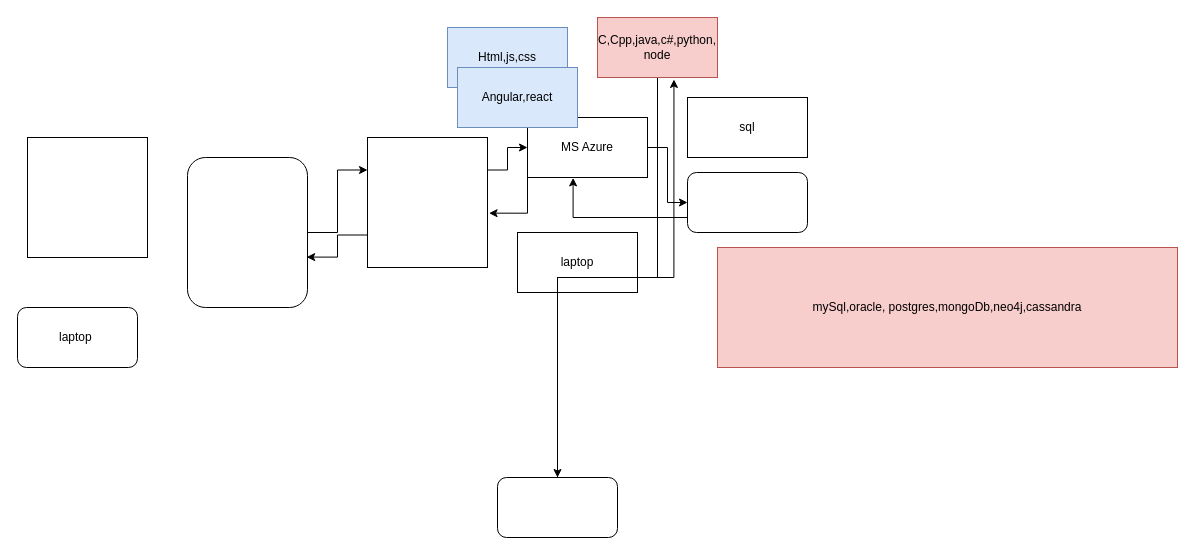
Some shapes in this 1195 by 555 pixel diagram are drawn without their labels. Each missing label, with the centre of its shape:
DB: point (747, 202)
Mobile: point (87, 197)
sasi.com: point (427, 202)
twitter: point (557, 507)
